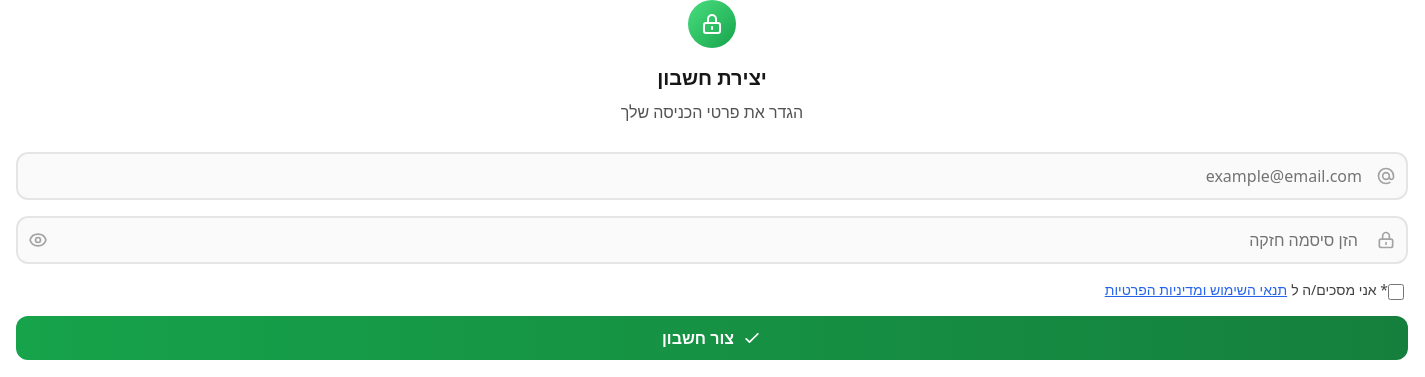
Test: AccountDetailsStep › Password Tooltip › should hide tooltip when mouse leaves lock icon
The width and height of the screenshot is (1425, 377).
Note: Hover to show tooltip
Hover over the 3rd element with class "relative": [1386, 240] box top-left (1376, 230), bottom-right (1396, 250)
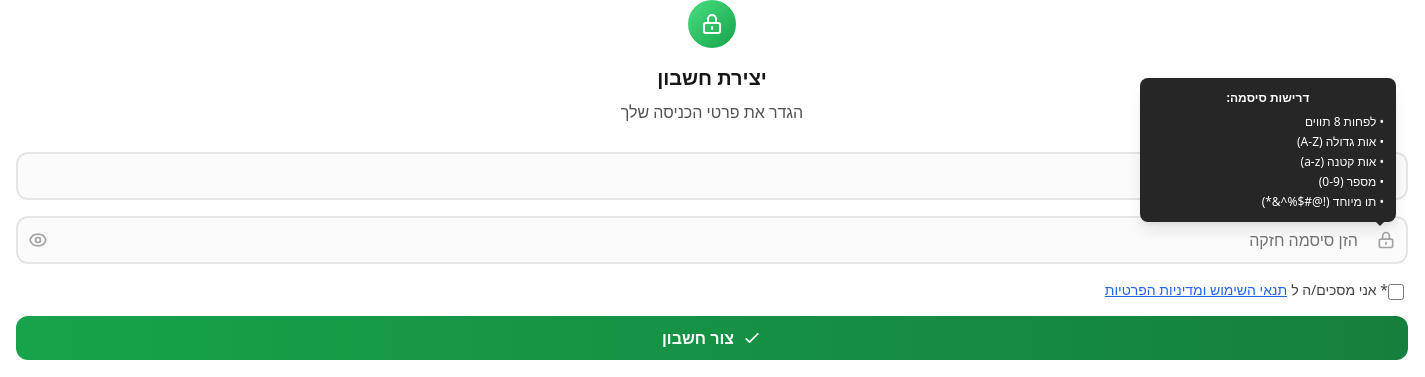
Result: the text "דרישות סיסמה:" is shown at top-left (1227, 89), bottom-right (1309, 106)
Note: Move mouse away to hide tooltip
Move the pointer off the element with class "relative" that starts with "דרישות סיסמה:", box top-left (1376, 230), bottom-right (1396, 250)
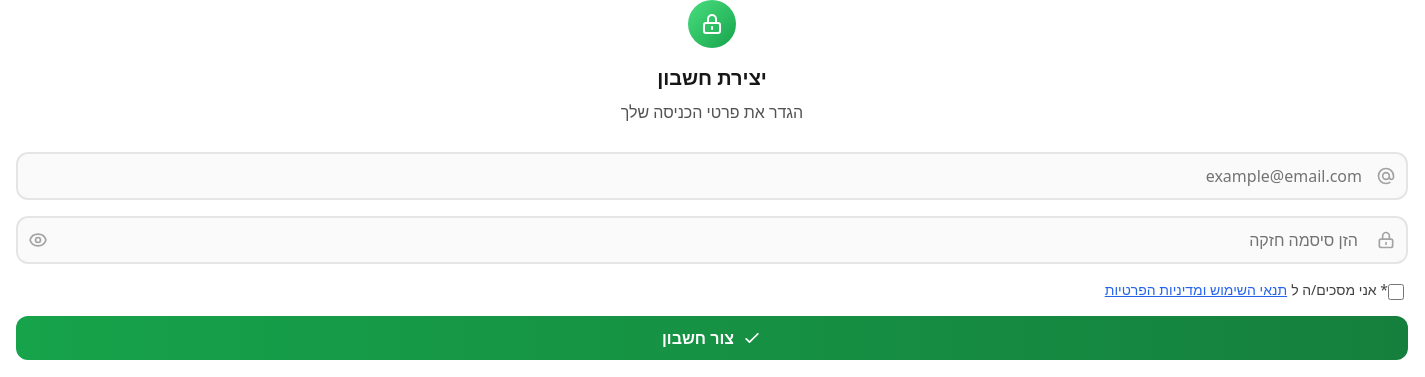
Result: the text "דרישות סיסמה:" is gone
